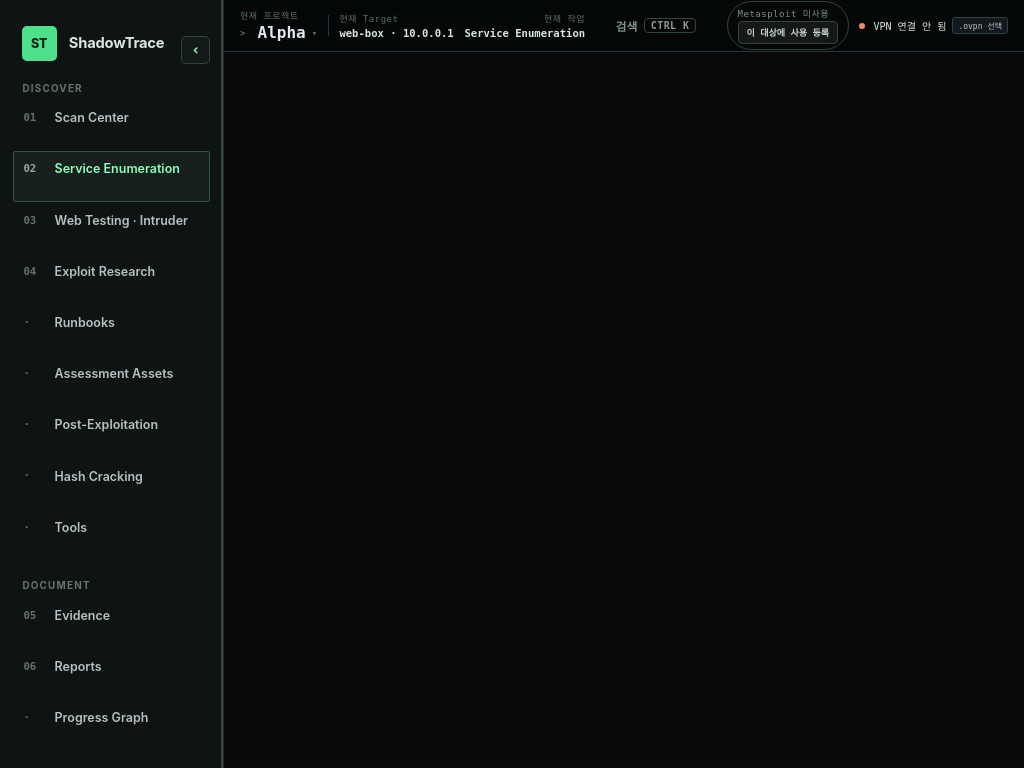
Scenario: feeds the command palette every service in the active project, not just the one on screen
Expected: the button "> Alpha ▾" is shown, [240,23,318,42]
Click the button "검색 Ctrl K" at point(656, 26), box [596,8,716,44]
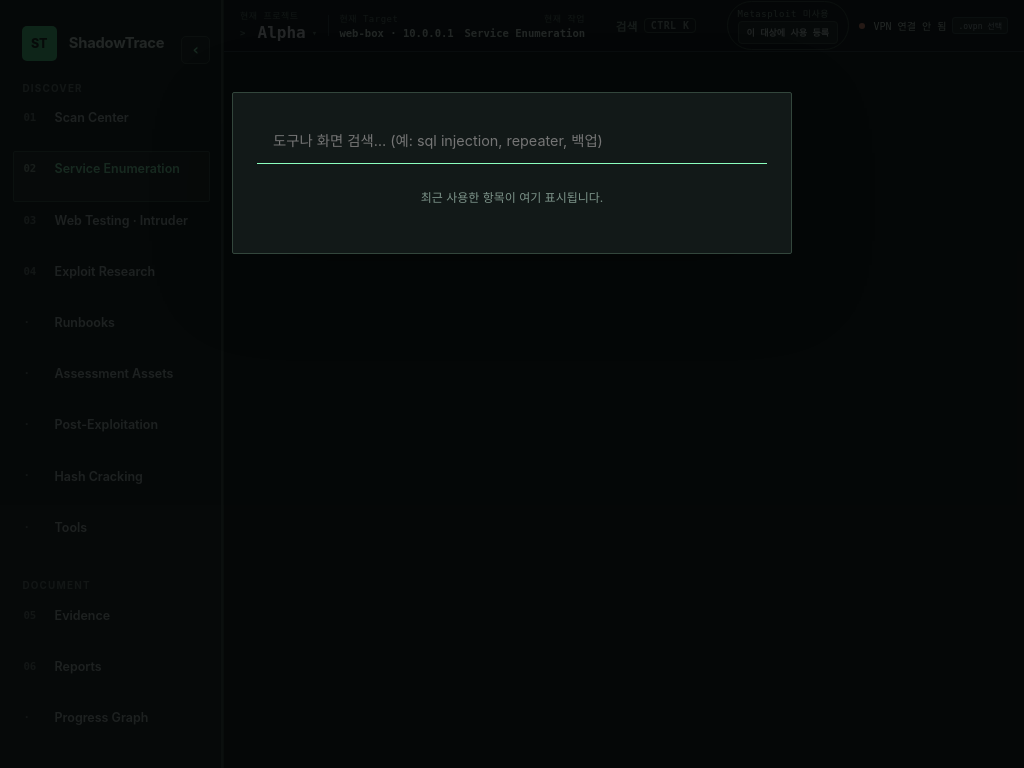
Type "gobuster dns" into the field with placeholder "도구나 화면 검색… (예: sql injection, repeater, 백업)" at point(512, 141), box [257,117,767,164]
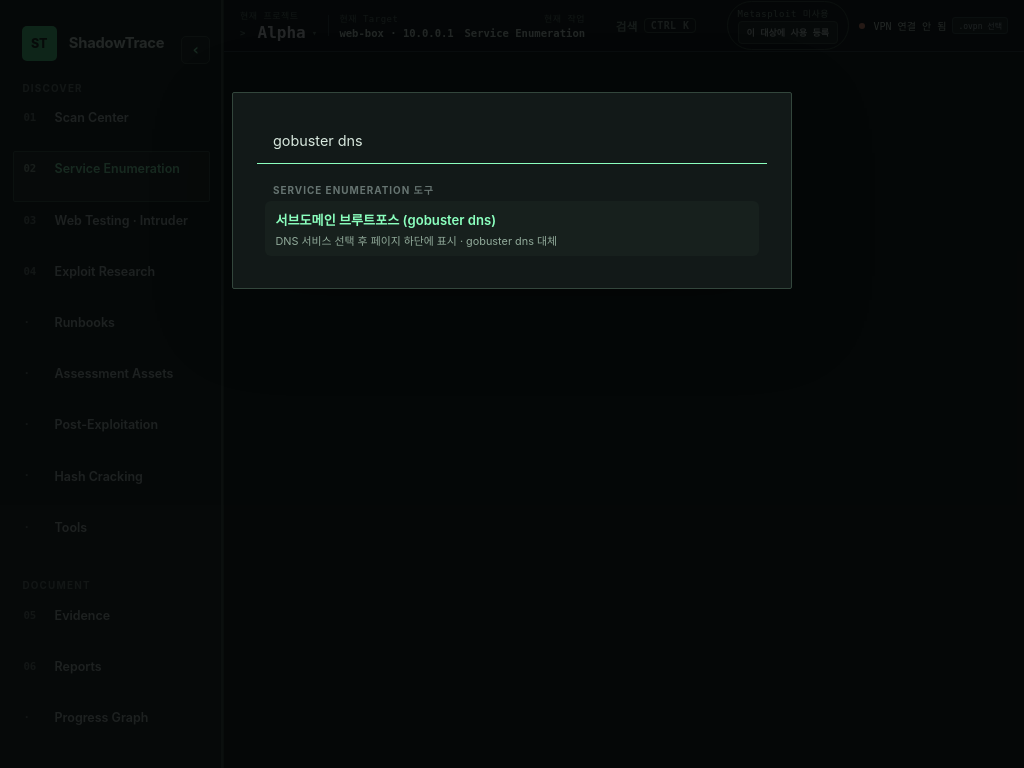
Click the text "서브도메인 브루트포스 (gobuster dns)" at point(386, 220), box [275,212,496,228]
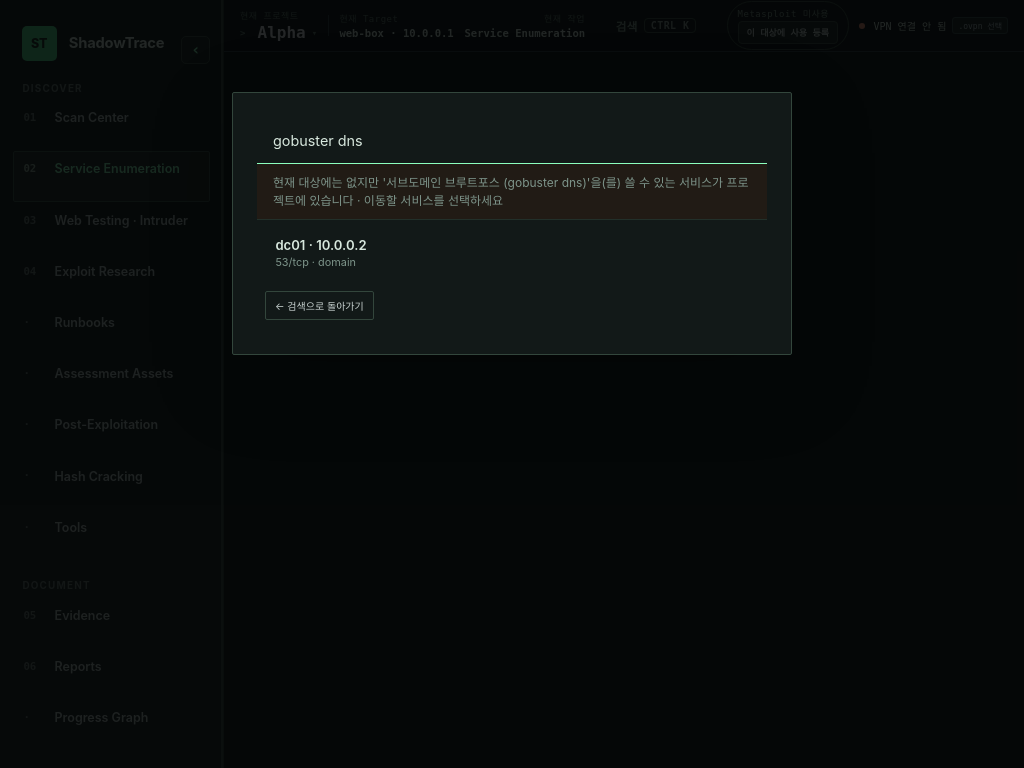
Expected: the text "dc01 · 10.0.0.2" is shown, [275,237,367,253]
